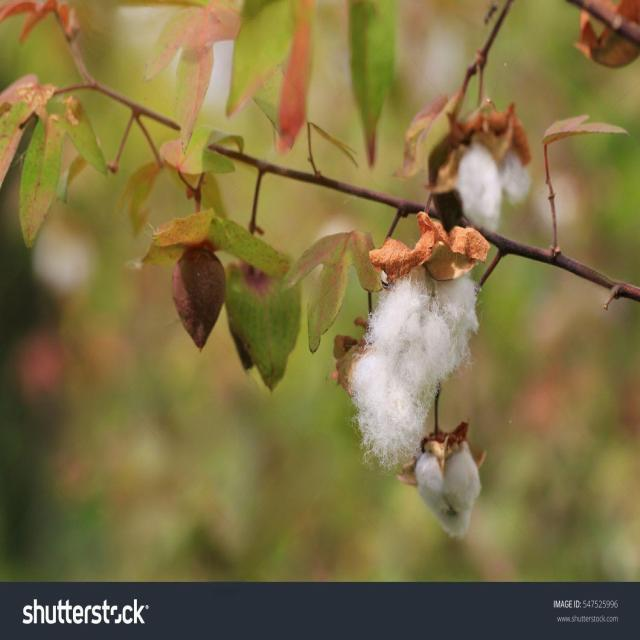Early_blight: (344, 208, 502, 483)
